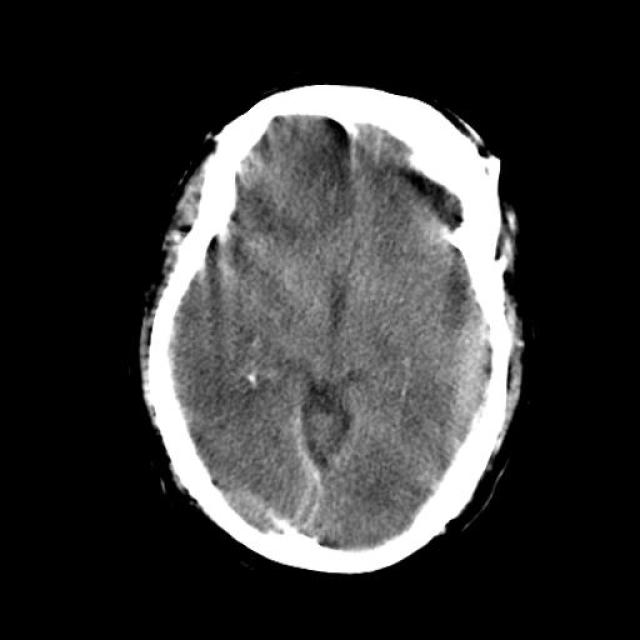Subdural: (270, 416, 348, 562)
